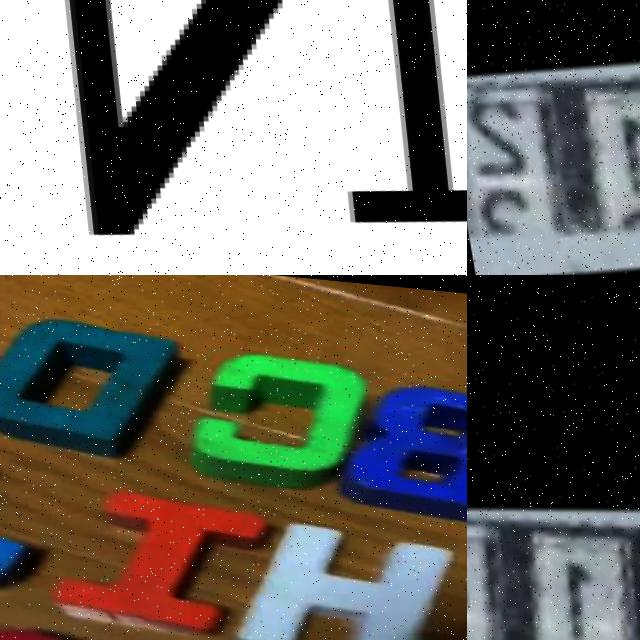1: (546, 546, 616, 640), (601, 98, 640, 202)
2: (467, 71, 544, 190), (467, 508, 485, 622)
B: (338, 356, 467, 519)
C: (176, 327, 374, 491)
D: (0, 290, 193, 459)
H: (216, 493, 458, 640)
I: (42, 464, 266, 640)
J: (0, 429, 39, 604)
N: (0, 0, 467, 274)
